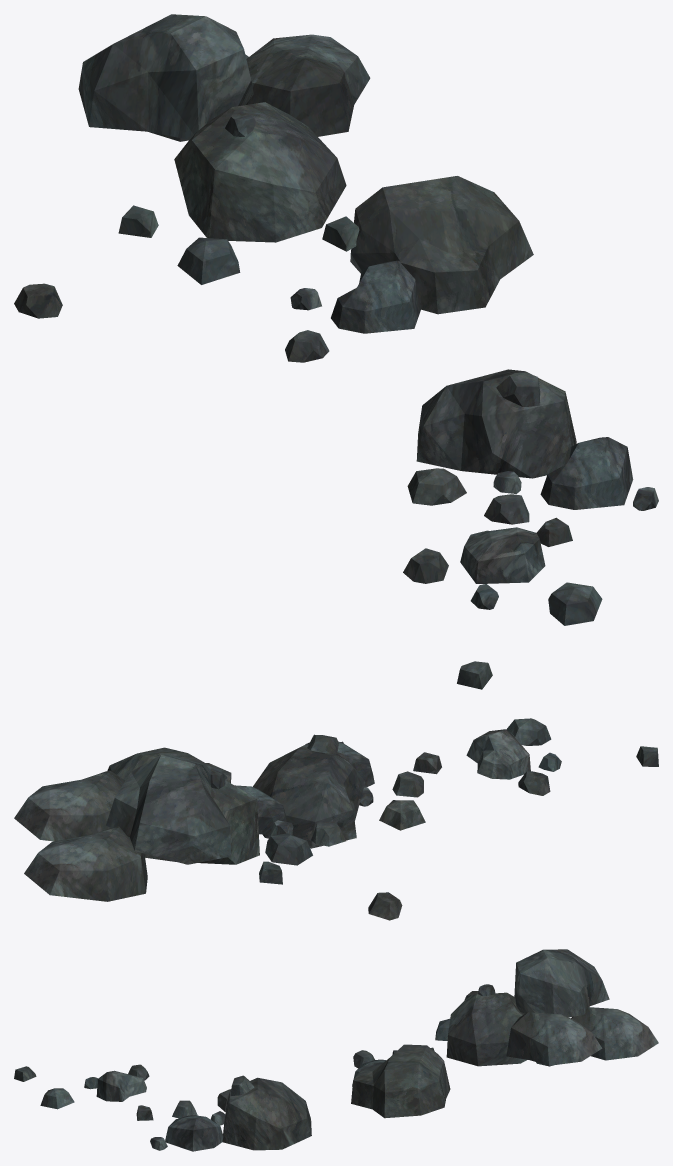
File: object_rubble36.fbx
The picture shows the model from 3 angles, top to bottom: view 1: azimuth 30°, elevation 25°; view 2: azimuth 150°, elevation 25°; view 3: azimuth 270°, elevation 25°; orthographic projection. The views are drawn at different scales.
Parts seen in each view (by area): view 1: obj0.109; view 2: obj0.109; view 3: obj0.109.
Boxes of the visible parts, x1,y1,x2,y2 form: obj0.109: (14, 14, 658, 689); obj0.109: (14, 718, 658, 920); obj0.109: (14, 949, 658, 1151).
Bounding box in the file's own units: 4 × 2.58 × 8.76.
